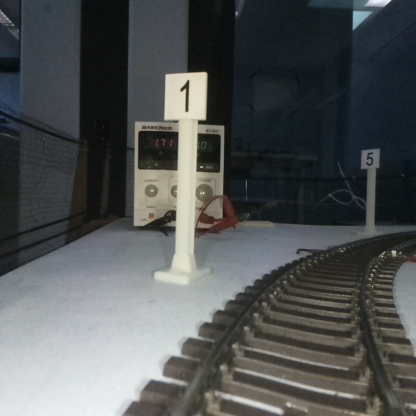white-info-1: (164, 72, 206, 282)
white-info-5: (361, 149, 379, 234)
